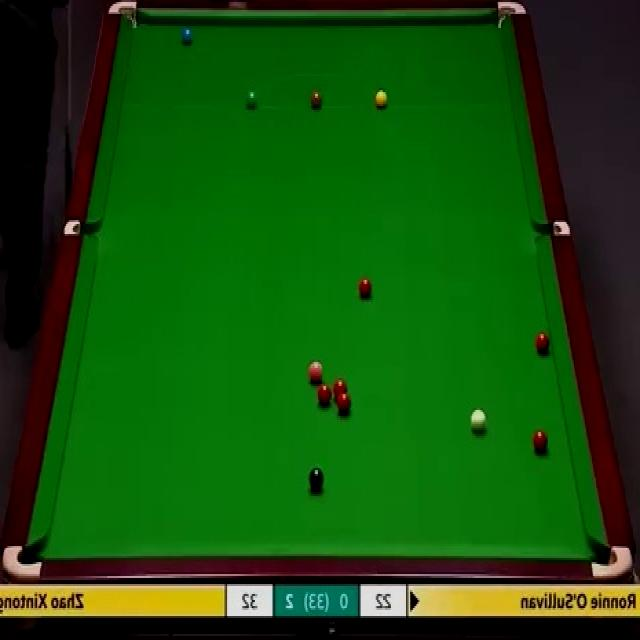black-ball: (309, 467, 325, 490)
blue-ball: (182, 27, 192, 48)
brown-ball: (310, 92, 323, 109)
green-ball: (244, 88, 258, 112)
pink-ball: (308, 359, 324, 383)
red-ball: (534, 330, 552, 356), (316, 383, 332, 407), (533, 430, 550, 451), (333, 378, 347, 402), (358, 278, 374, 297), (337, 392, 351, 413)
white-ball: (471, 409, 486, 434)
yellow-ball: (374, 89, 388, 110)
